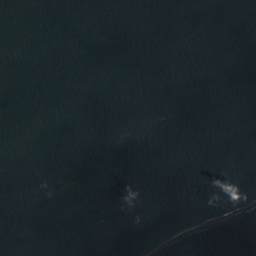Marine Debris: (141, 206, 245, 256), (212, 178, 256, 213)
